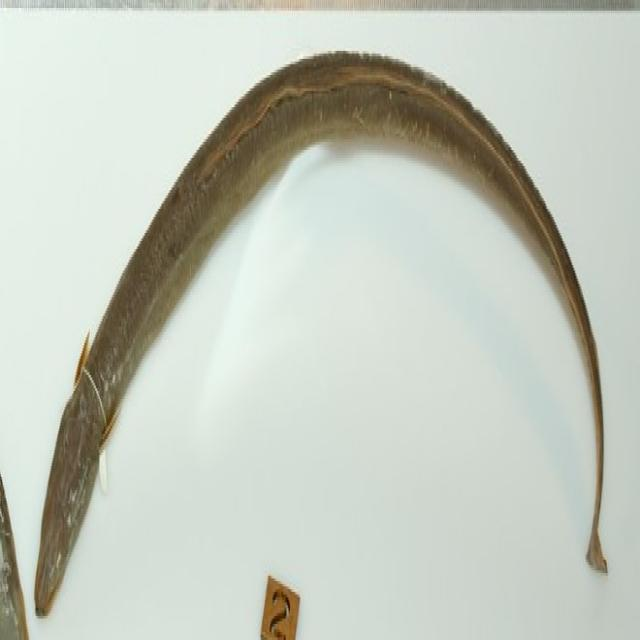Freshwater-Eel: (17, 19, 635, 620)
